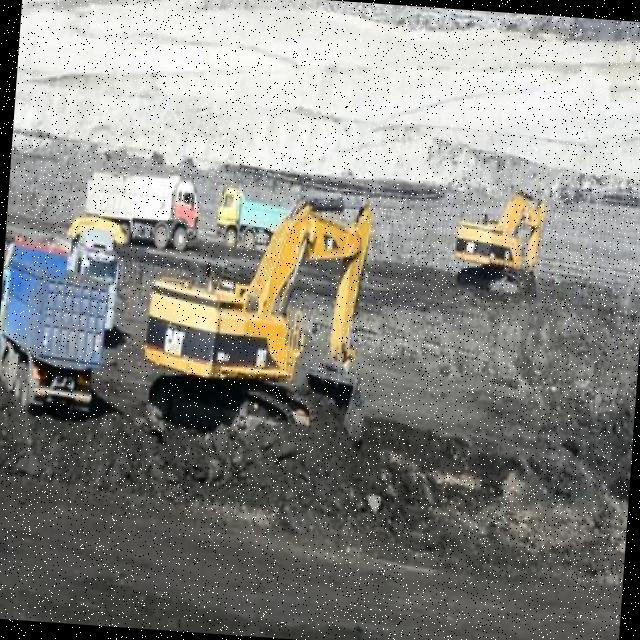Dump Truck: (0, 228, 117, 419), (84, 162, 201, 252), (212, 185, 284, 248)
Excavator: (137, 186, 378, 440), (450, 184, 548, 302)
